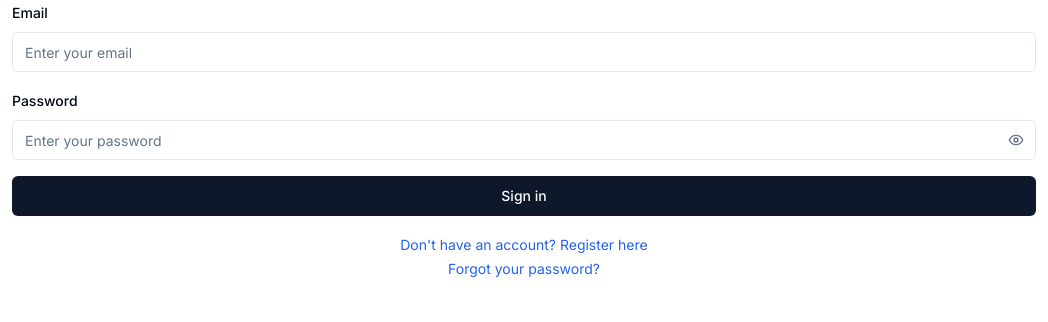
it: LoginForm Component › Form Validation › should require password field
Type "test@example.com" into the field with test id "email-input" at (524, 52), box [12,32,1036,72]
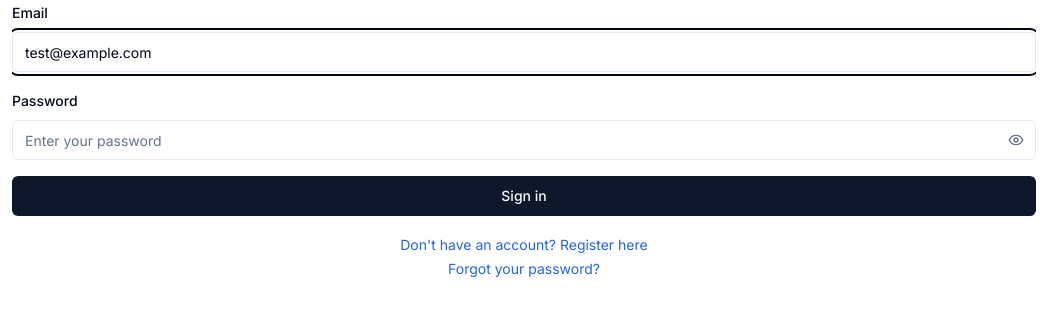
Click the button with test id "login-button" at (524, 196), box [12,176,1036,216]
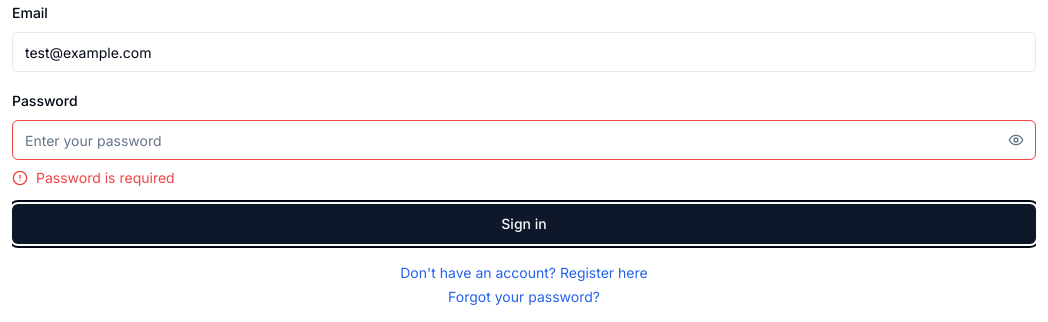
Now the text "Password is required" is shown, box [36,168,175,188]
